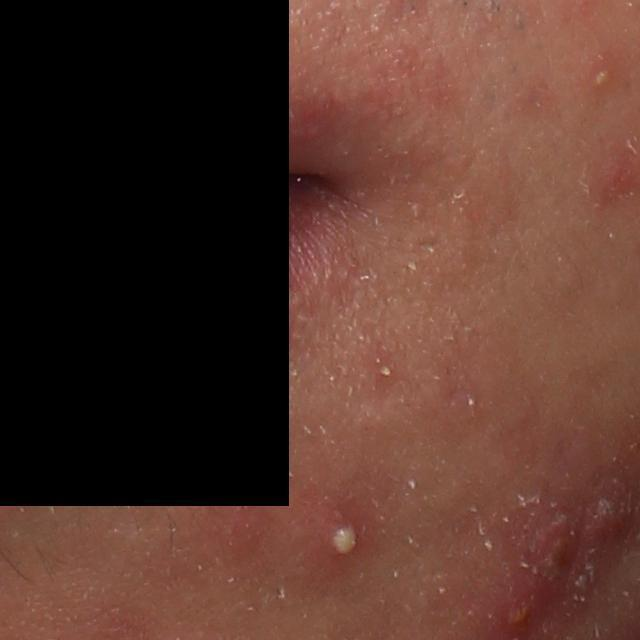papule: (524, 512, 580, 587), (216, 489, 274, 557), (582, 494, 635, 542)
pustule: (303, 498, 379, 569)
